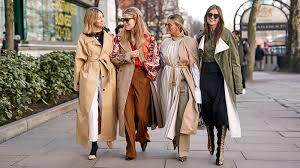Person: (192, 4, 245, 168), (66, 6, 120, 160), (113, 5, 160, 165), (158, 17, 197, 166)
